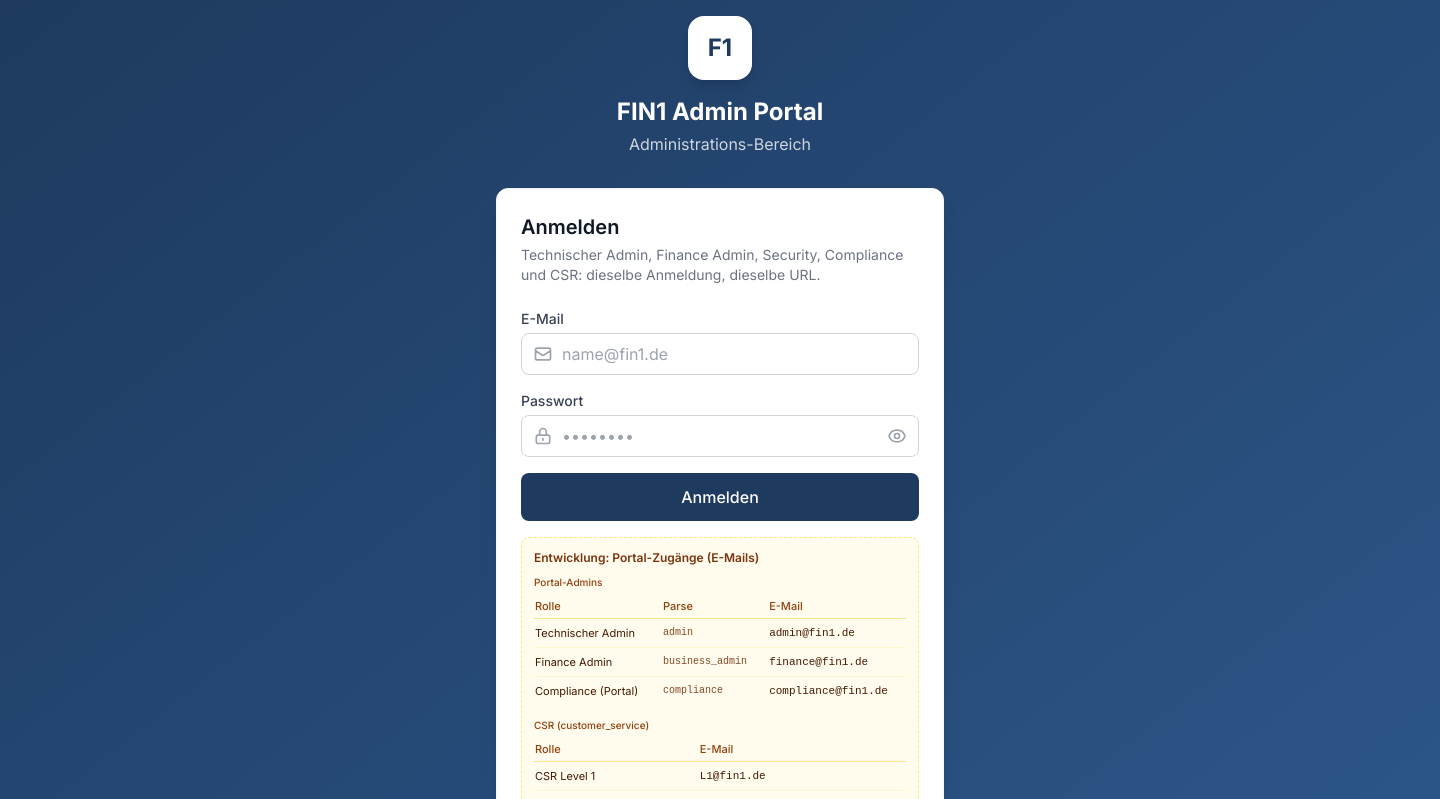
Test: LoginPage › maps lockout error to user-friendly message
The image size is (1440, 799).
Type "finance@fin1.de" into the field labelled "E-Mail" at [720, 354], box [521,333,919,375]
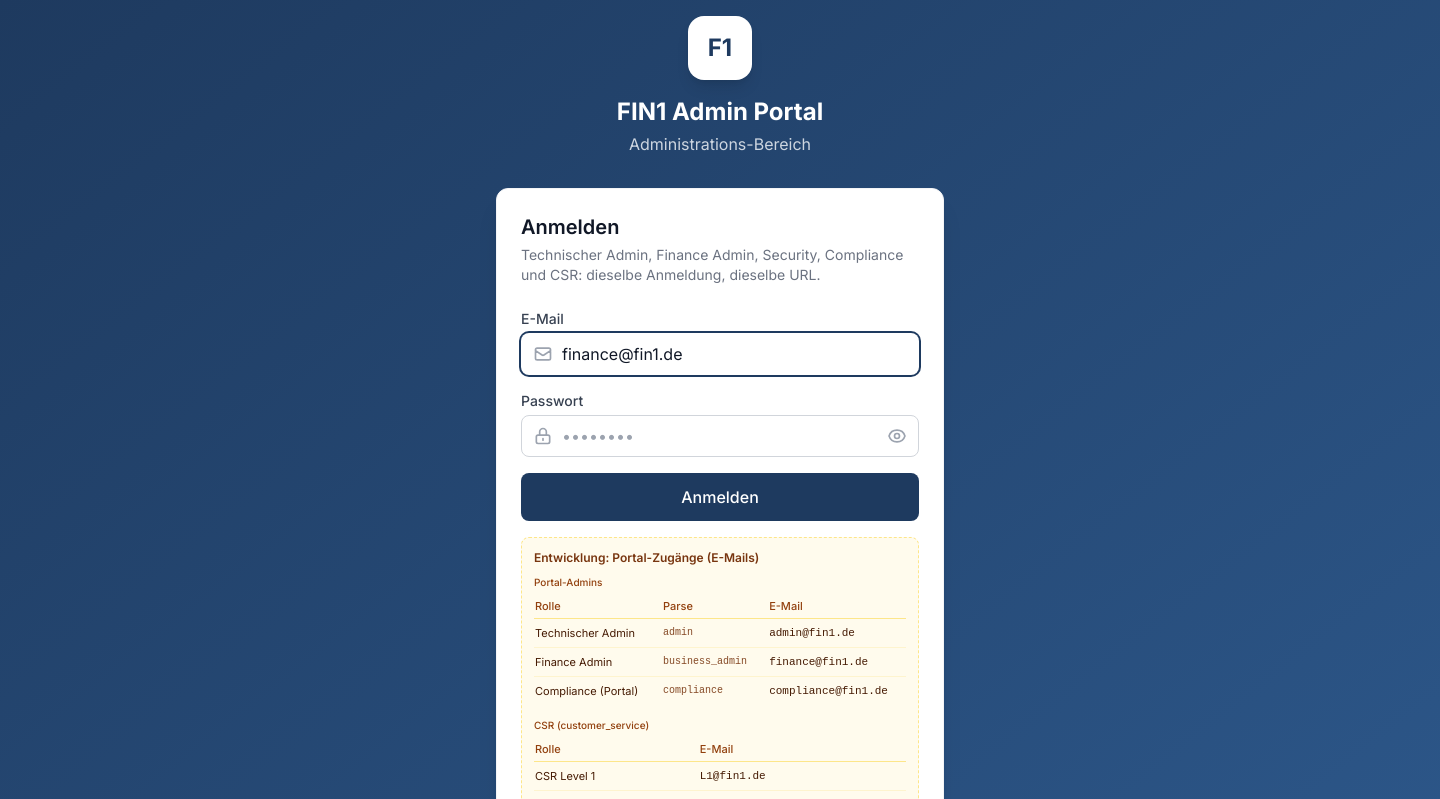
Type "wrongpass" into the password field labelled "Passwort" at [720, 436], box [521,415,919,457]
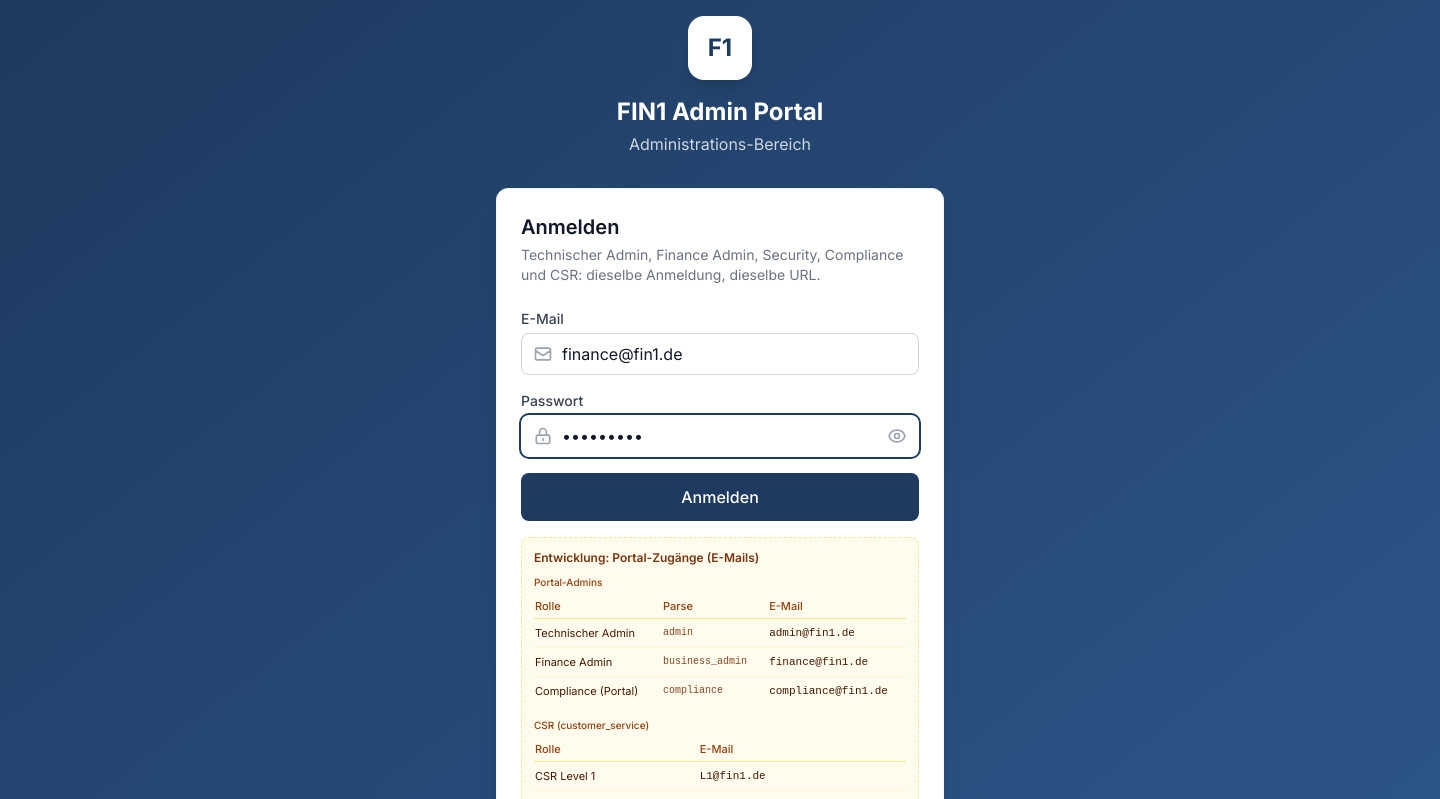
Click the button "Anmelden" at [720, 497], box [521,473,919,521]
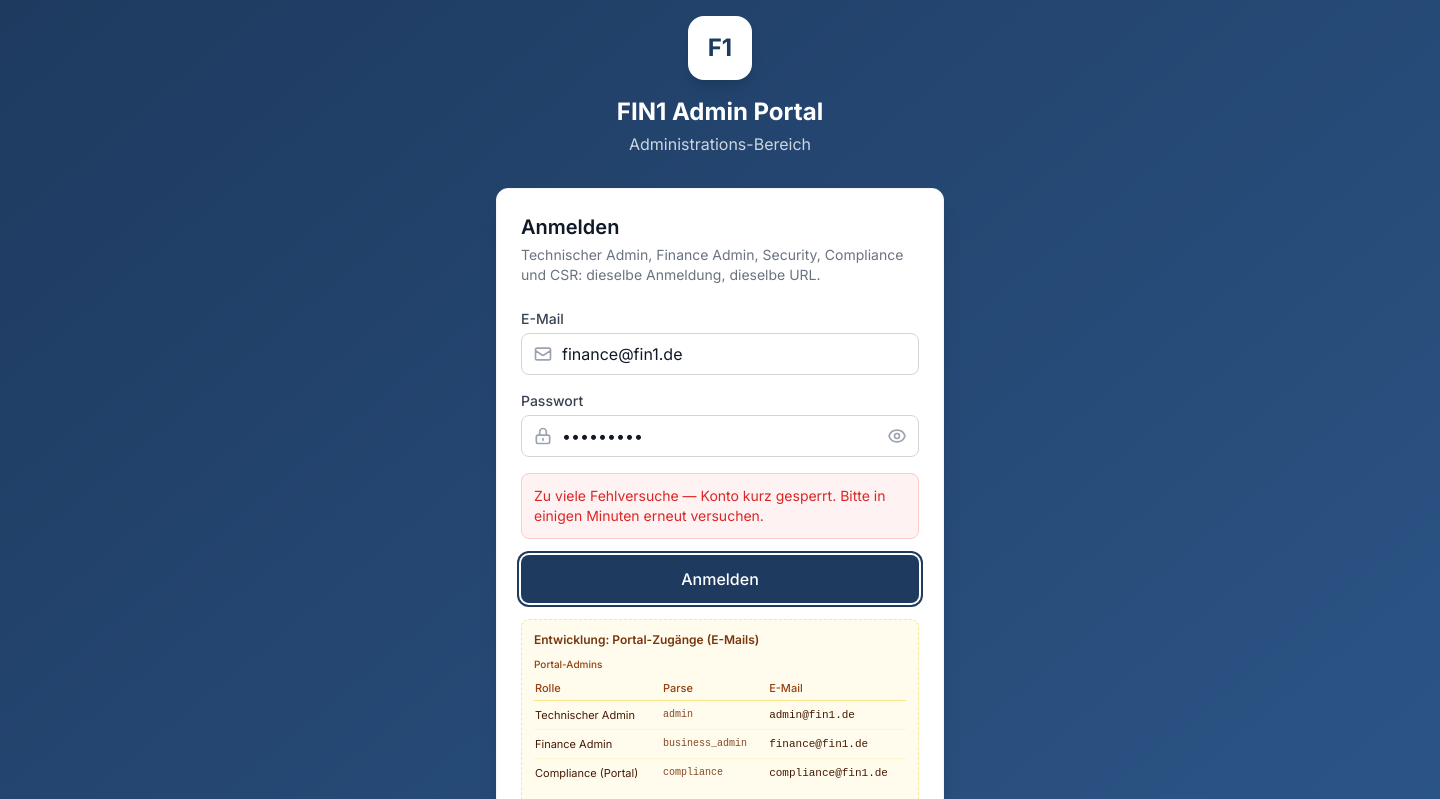
Now the text "Zu viele Fehlversuche" is shown, box [534,487,886,524]
